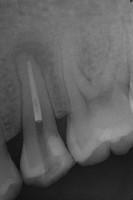Furcation Involvement: (15, 41, 50, 78)
